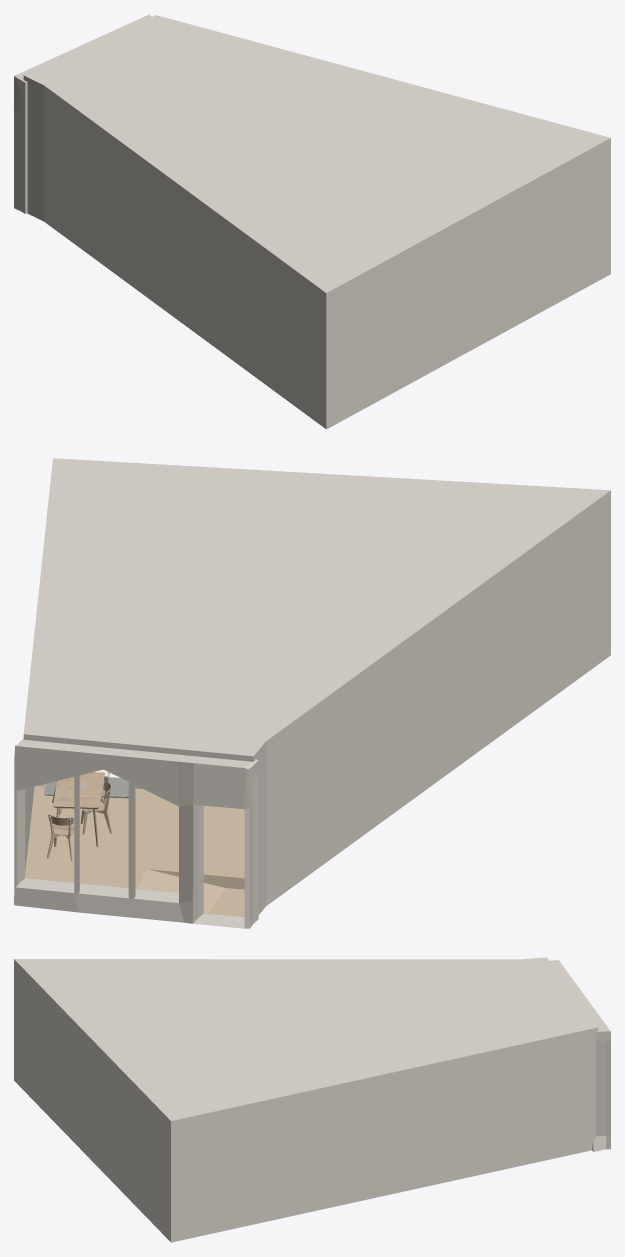
3 renders of one model, top to bottom at view 1: azimuth 30°, elevation 25°; view 2: azimuth 150°, elevation 25°; view 3: azimuth 270°, elevation 25°, orthographic. The views are drawn at different scales.
Visible parts, largest first — view 1: cieling, outer wall, internal walls, outer wall.001; view 2: cieling, outer wall, outer wall.001, floor.001, table, KALLAX_592.783.07, LISABO_004.572.001; view 3: cieling, outer wall, internal walls, outer wall.001.
Part boxes in pixels (x1,y1,x2,y2): cieling: [23, 15, 610, 298]; outer wall: [27, 82, 610, 429]; internal walls: [492, 143, 610, 331]; outer wall.001: [14, 14, 151, 213]; cieling: [23, 458, 610, 761]; outer wall: [25, 496, 610, 914]; outer wall.001: [14, 738, 258, 928]; floor.001: [25, 785, 244, 916]; table: [53, 772, 104, 809]; KALLAX_592.783.07: [44, 769, 128, 798]; LISABO_004.572.001: [47, 814, 74, 860]; cieling: [14, 957, 598, 1125]; outer wall: [14, 964, 595, 1241]; internal walls: [142, 1079, 407, 1242]; outer wall.001: [550, 960, 610, 1151].
Size of the model in its own units: 8.85 by 3.04 by 13.51.
Materials: 12 (8 with a texture image).
